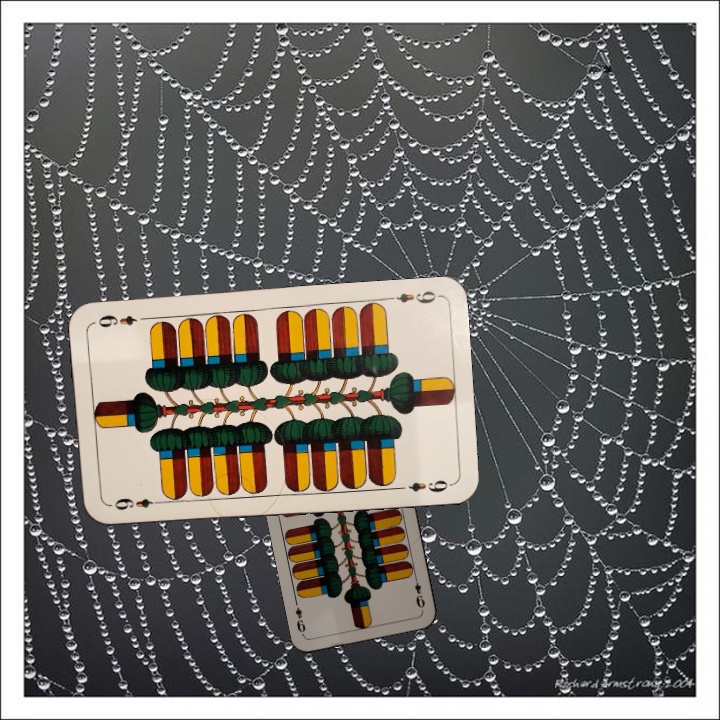E9: (382, 287, 441, 307), (105, 494, 164, 513), (411, 572, 427, 612)
